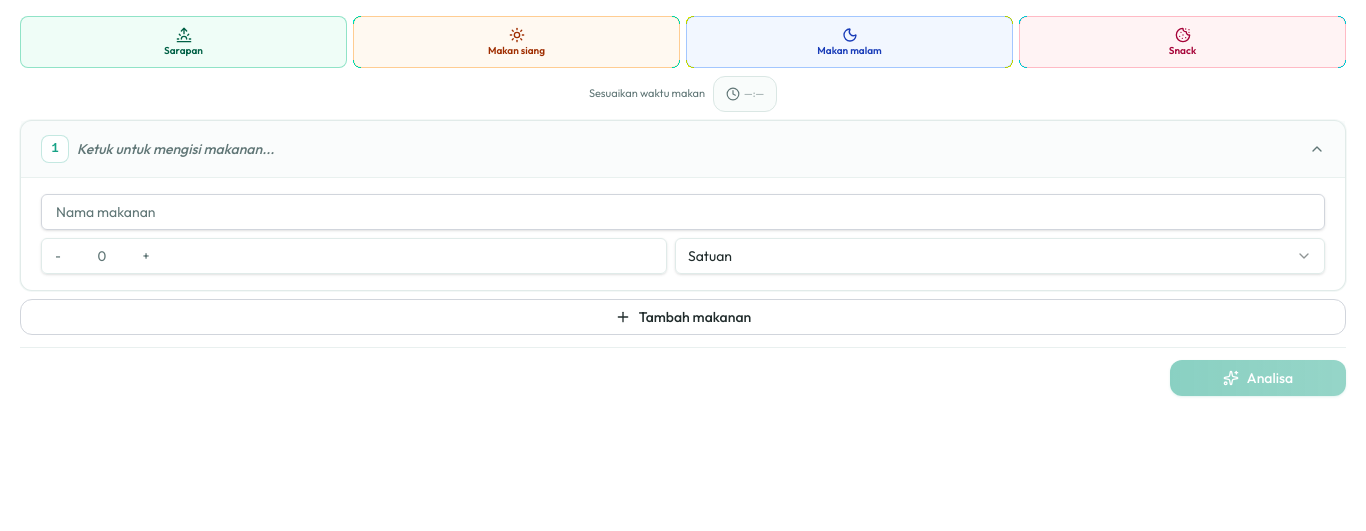
Test: FoodEntryForm › "Tambah makanan" button adds a second food row
This screenshot has width=1366, height=531.
Step 1. Click the button "Tambah makanan" → click(683, 317), box 20,299 -> 1346,335
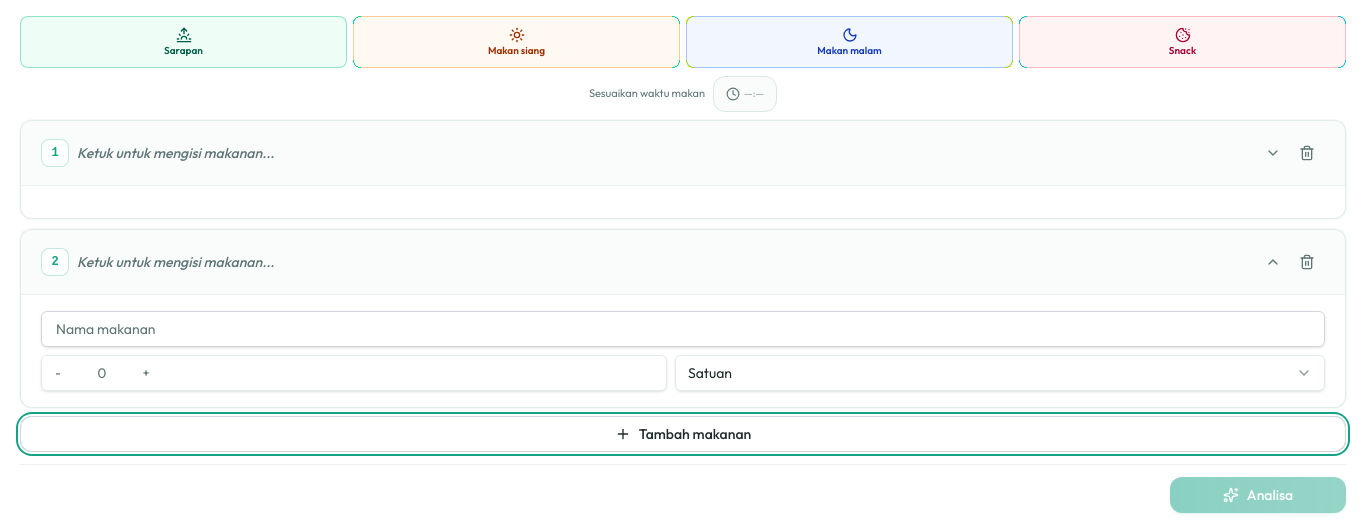
Expected: the number of elements named "diary makanan" is 2, 20,120 -> 1346,219; 20,229 -> 1346,408
